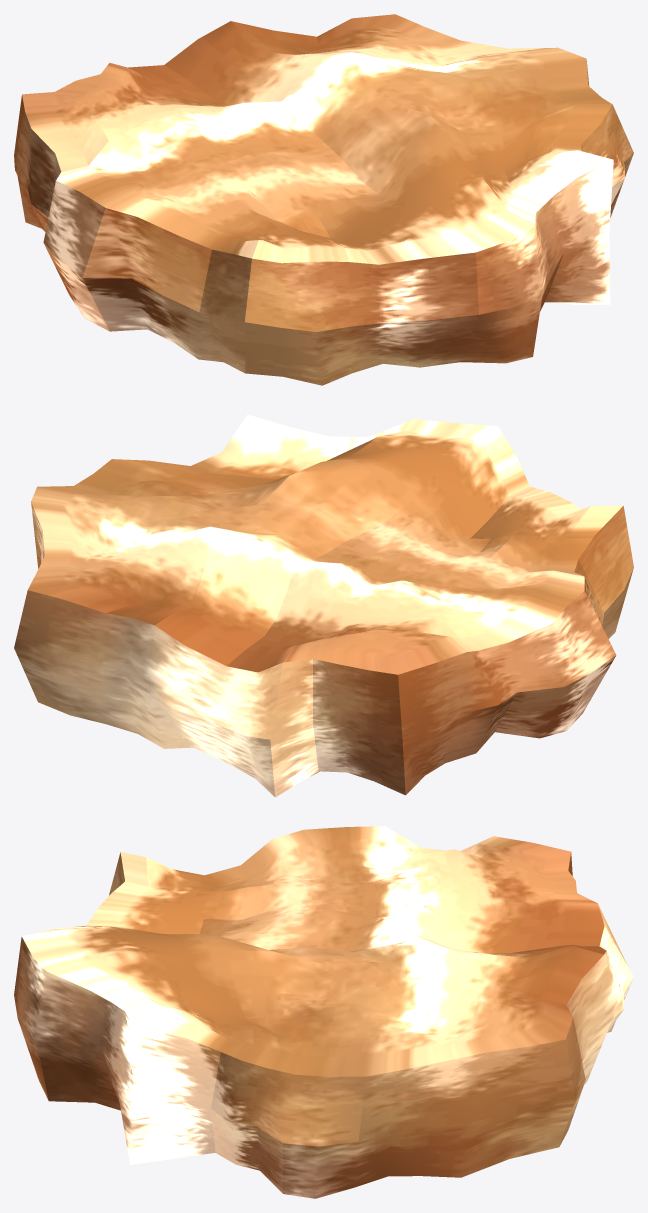
File: platform_002.fbx
The picture shows the model from 3 angles, top to bottom: view 1: azimuth 30°, elevation 25°; view 2: azimuth 150°, elevation 25°; view 3: azimuth 270°, elevation 25°; orthographic projection.
Parts seen in each view (by area): view 1: Platform.002; view 2: Platform.002; view 3: Platform.002.
Part boxes in pixels (x1,y1,x2,y2): Platform.002: [14, 14, 633, 385]; Platform.002: [14, 414, 633, 797]; Platform.002: [14, 826, 633, 1198].
Bounding box in the file's own units: 294 × 96.9 × 292.
